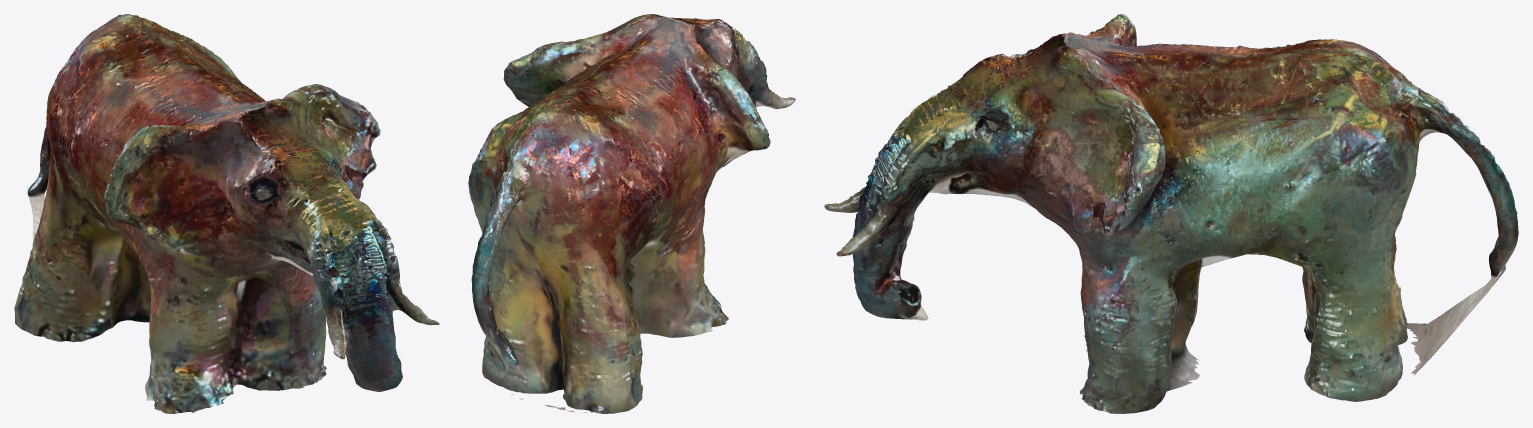
Rendered from elephant_a977eac5.glb.
3 renders of one model, left to right at view 1: azimuth 30°, elevation 25°; view 2: azimuth 150°, elevation 25°; view 3: azimuth 270°, elevation 25°, orthographic. The views are drawn at different scales.
Visible parts, largest first — view 1: Object_4; view 2: Object_4; view 3: Object_4.
Boxes of the visible parts, x1,y1,x2,y2 form: Object_4: [14, 14, 439, 413]; Object_4: [468, 14, 795, 413]; Object_4: [824, 14, 1518, 413].
Bounding box in the file's own units: 0.1155 × 0.1168 × 0.2261.
1 material, 1 textured.
